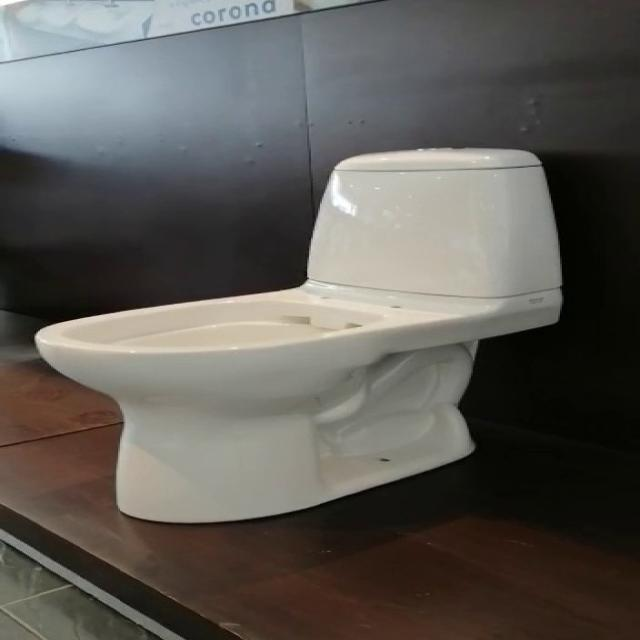toilet: (32, 145, 564, 524)
